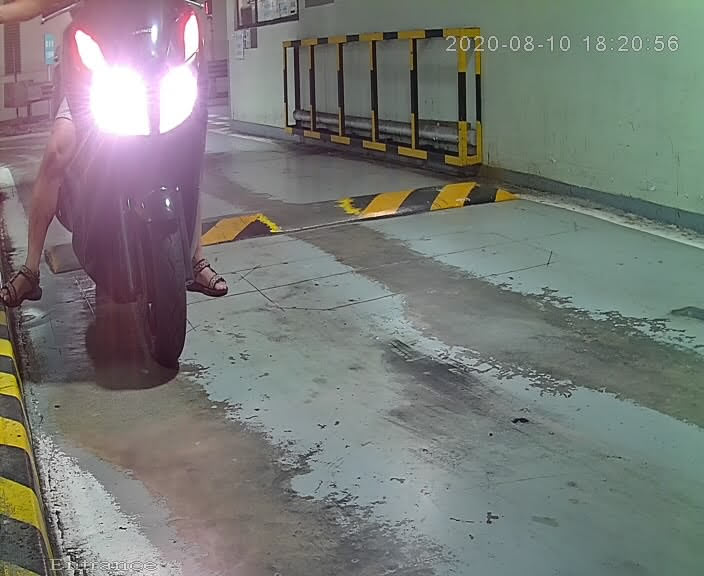motorcycle: (1, 1, 250, 377)
